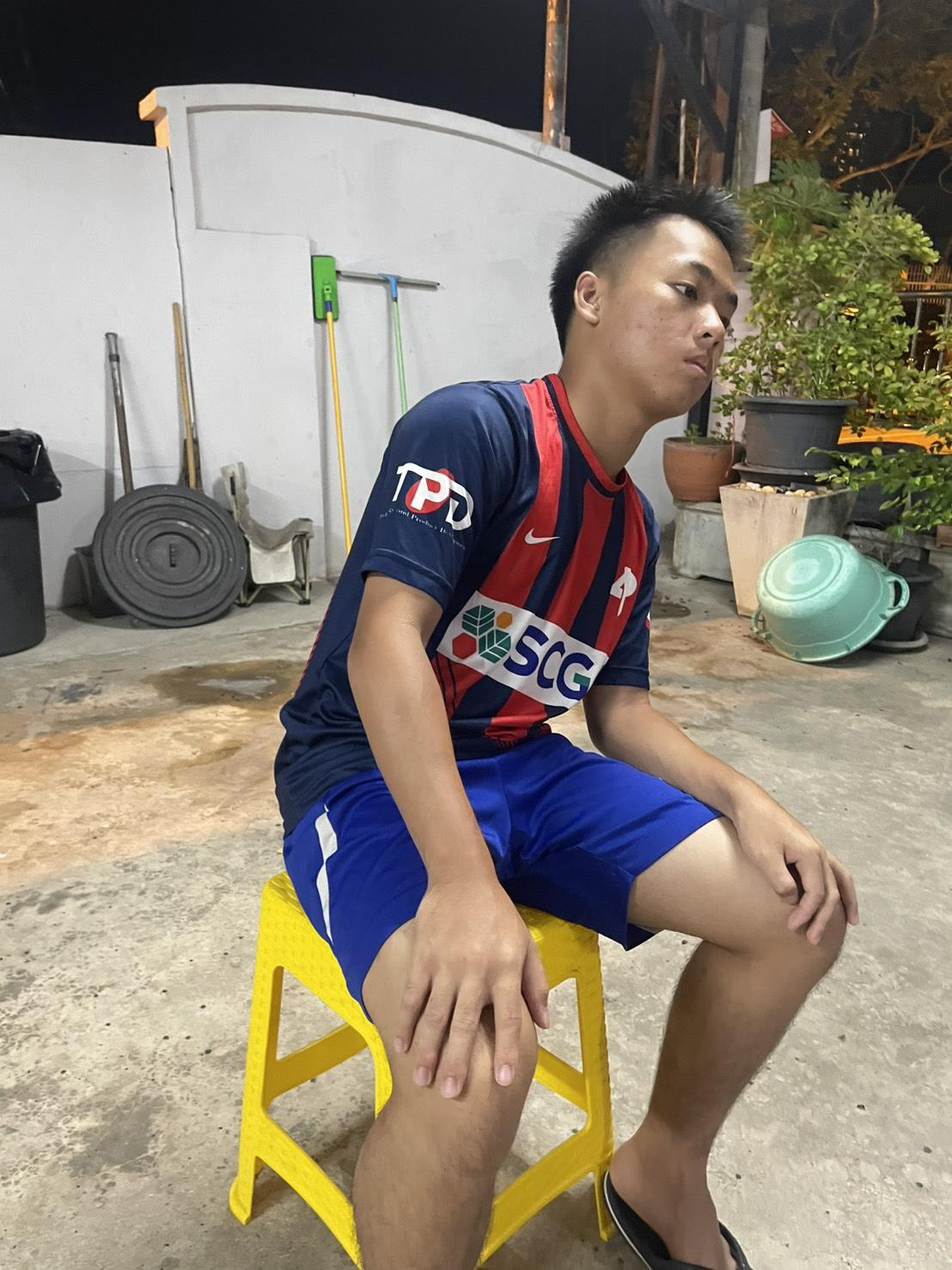BadPosture: (275, 181, 742, 834)
